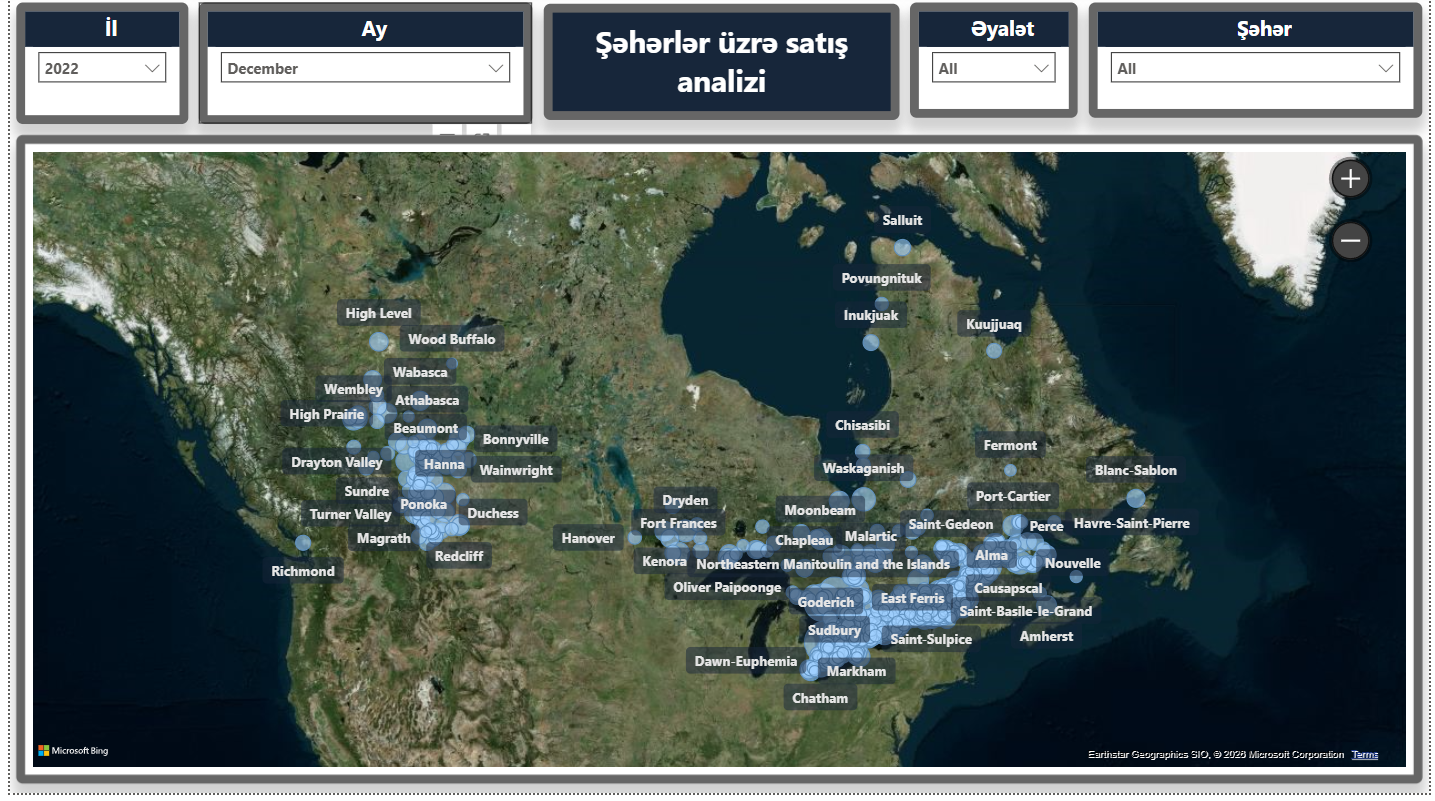

The dashboard page shown, as its layout file describes it:
{"tool":"powerbi","page":{"name":"Şəhər üzrə satış analizi","canvas":[1280,720],"ordinal":0},"visuals":[{"type":"textbox","box":[481.4,7.5,320.9,104.5],"z":0},{"type":"slicer","title":"İl","fields":{"Values":["Calendar.Date.Variation.Date Hierarchy.Year"]},"box":[5.5,6.9,155.1,109.8],"z":1000},{"type":"slicer","title":"Əyalət","fields":{"Values":["walmart_city.Əyalət"]},"box":[812,6.9,150.9,104.3],"z":2000},{"type":"slicer","title":"Ay","fields":{"Values":["Calendar.Date.Variation.Date Hierarchy.Month"]},"box":[170.5,6.9,300.5,109.8],"z":3000},{"type":"slicer","title":"Şəhər","fields":{"Values":["walmart_city.Şəhər"]},"box":[972.9,6.9,300.5,104.3],"z":4000},{"type":"map","fields":{"Category":["walmart_city.Şəhər"],"Size":["Satış Dax.Total satış"],"Y":["Avg(walmart_city.lat)"],"X":["Avg(walmart_city.lng)"]},"box":[5.5,126.2,1267.9,584.6],"z":5000}]}

Visuals, with their boxes in screenshot pixels (x1, y1, x2, y2), scaled from the page's 1280x720 canvas onto the 1435x801 screenshot:
textbox: {"x1": 540, "y1": 8, "x2": 899, "y2": 125}
"İl" slicer: {"x1": 6, "y1": 8, "x2": 180, "y2": 130}
"Əyalət" slicer: {"x1": 910, "y1": 8, "x2": 1080, "y2": 124}
"Ay" slicer: {"x1": 191, "y1": 8, "x2": 528, "y2": 130}
"Şəhər" slicer: {"x1": 1091, "y1": 8, "x2": 1428, "y2": 124}
map - walmart_city.Şəhər x Satış Dax.Total satış: {"x1": 6, "y1": 140, "x2": 1428, "y2": 791}
